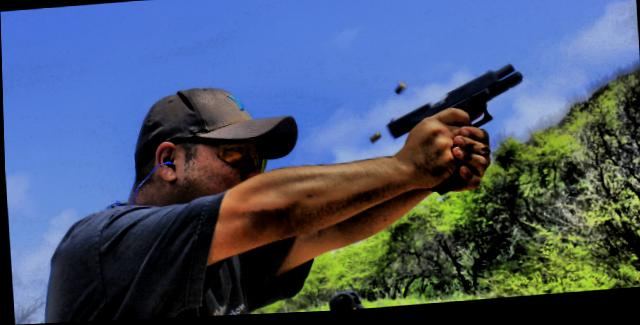pistol: (374, 55, 540, 190)
